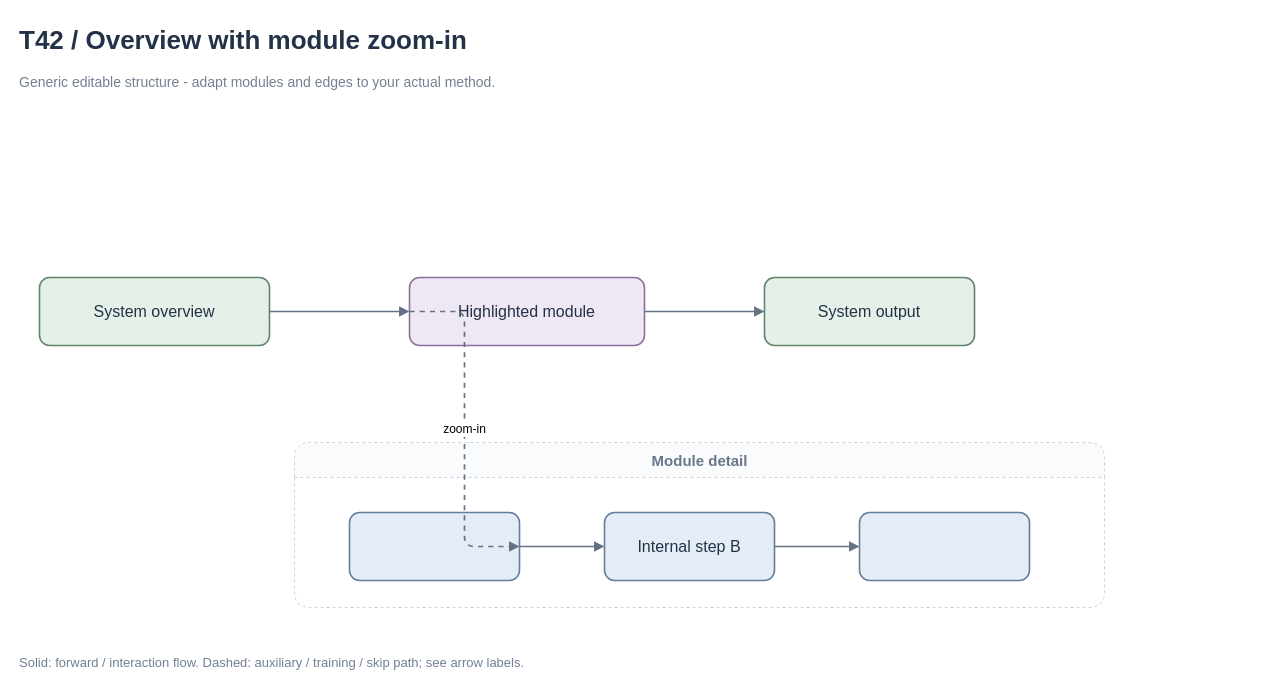
Some shapes in this 1264 by 695 pixel diagram are drawn without their labels. The centre of each missing label's shape, as x and y in pixels:
"Internal step A" belongs at point (434, 546).
"Internal step C" belongs at point (944, 546).
